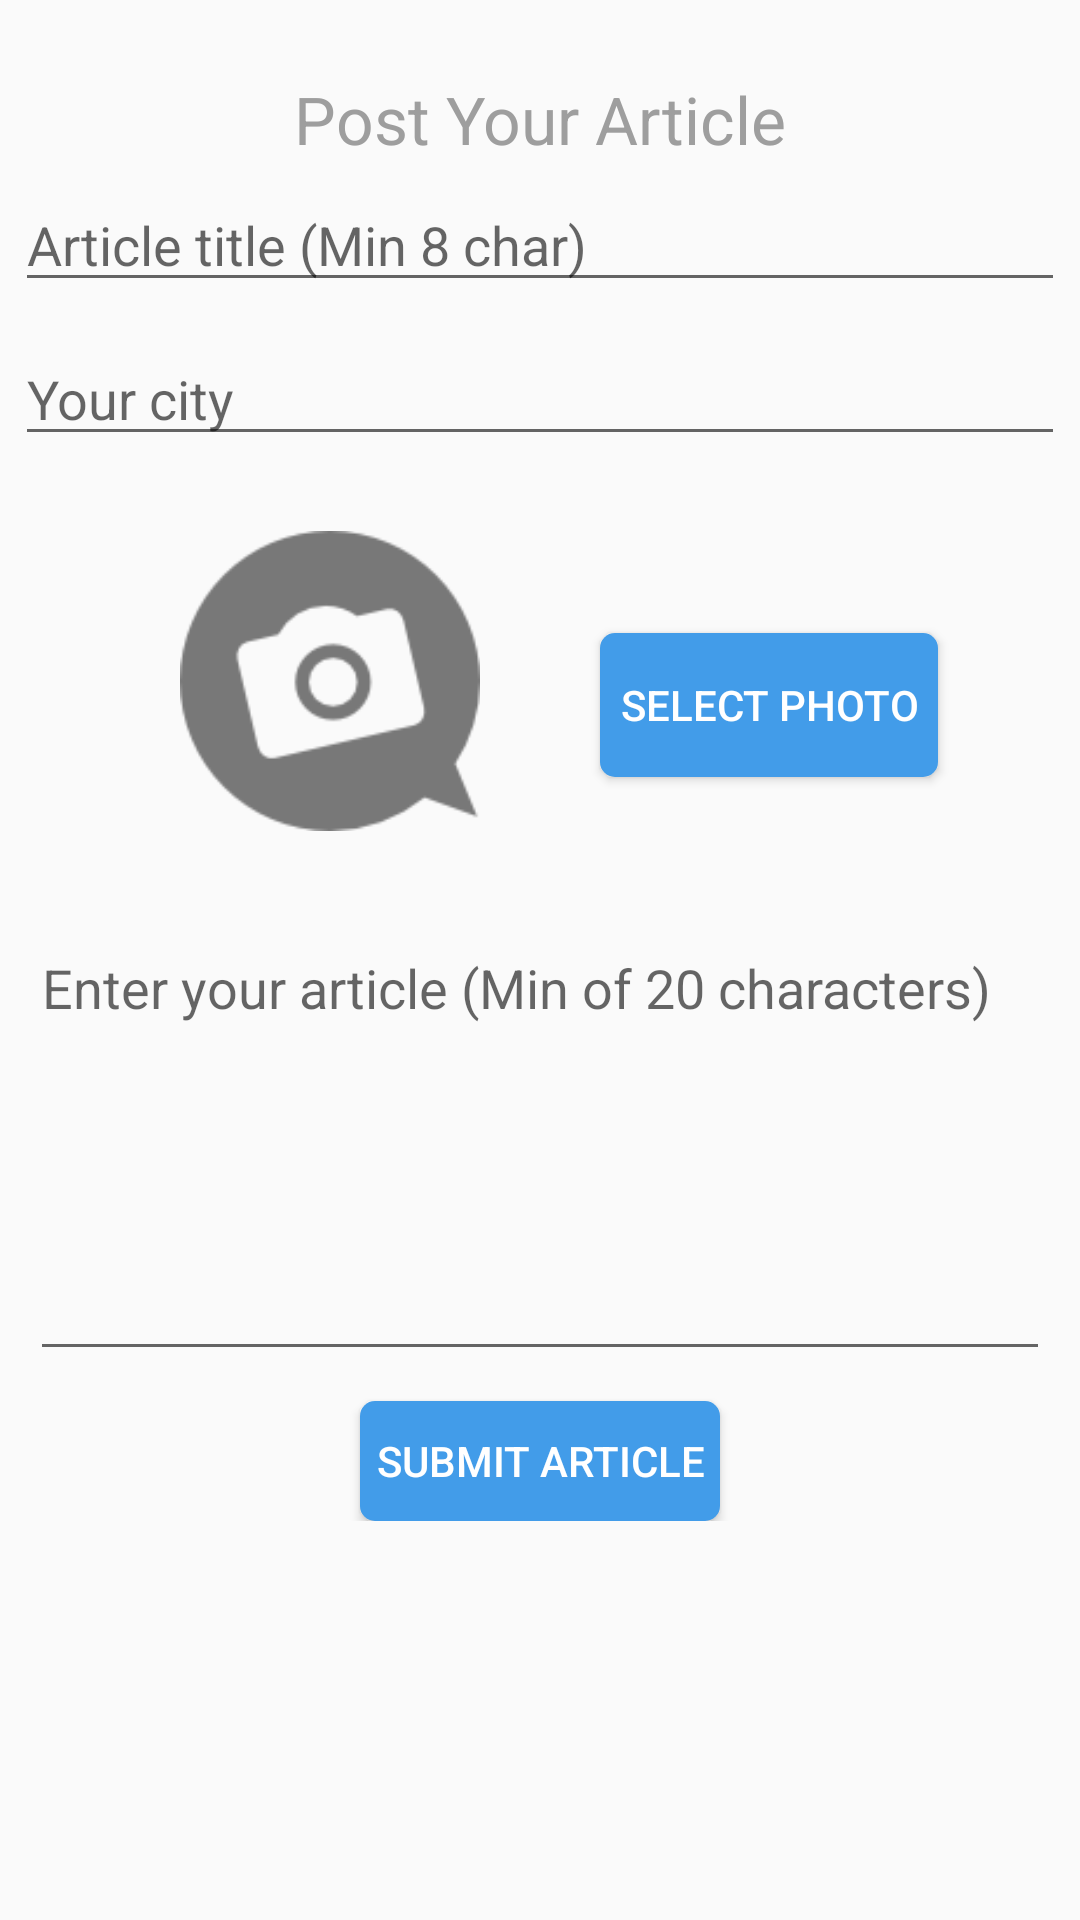

Named icons in this screenshot (1080x1920) and their centers, [x,y]:
camera: [330,681]
